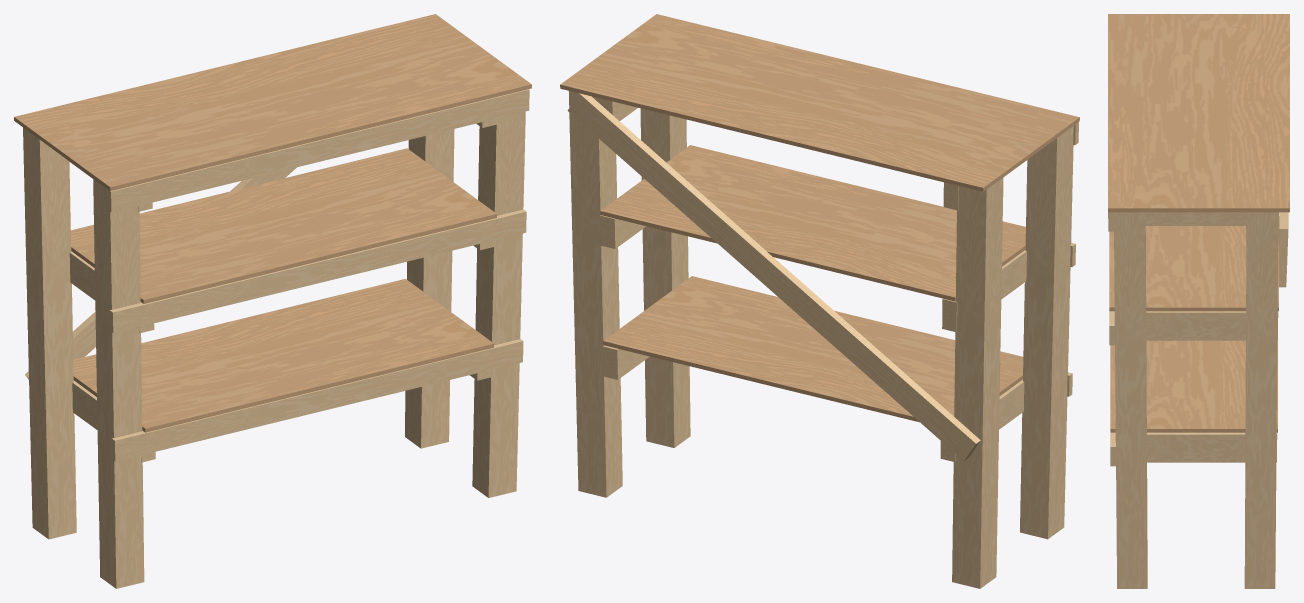
Rendered from Wooden_Self_2.fbx.
The picture shows the model from 3 angles, left to right: view 1: azimuth 30°, elevation 25°; view 2: azimuth 150°, elevation 25°; view 3: azimuth 270°, elevation 25°; orthographic projection. The views are drawn at different scales.
Visible parts, largest first — view 1: Shelf_2_Shelves, Shelf_2_Frame; view 2: Shelf_2_Shelves, Shelf_2_Frame; view 3: Shelf_2_Shelves, Shelf_2_Frame.
Boxes of the visible parts, box(x1,y1,x2,y2) form: Shelf_2_Shelves: box(14, 14, 531, 432); Shelf_2_Frame: box(23, 89, 529, 588); Shelf_2_Shelves: box(560, 14, 1079, 422); Shelf_2_Frame: box(567, 91, 1078, 588); Shelf_2_Shelves: box(1108, 14, 1289, 432); Shelf_2_Frame: box(1108, 212, 1288, 588).
Size of the model in its own units: 147 by 136 by 58.26.
Materials: 2 (2 with a texture image).
